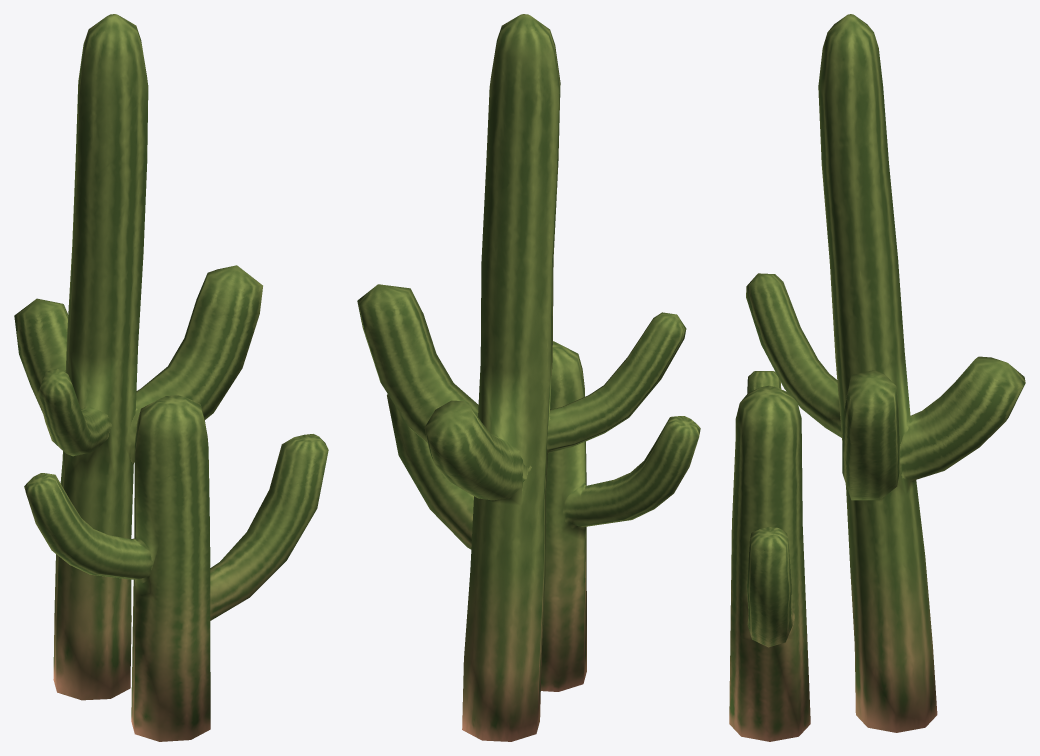
Rendered from obstacle1.glb.
3 renders of one model, left to right at view 1: azimuth 30°, elevation 25°; view 2: azimuth 150°, elevation 25°; view 3: azimuth 270°, elevation 25°, orthographic.
Visible parts, largest first — view 1: cactus_8_cacturs_8_0, cactus_1_cacturs_1_0; view 2: cactus_8_cacturs_8_0, cactus_1_cacturs_1_0; view 3: cactus_8_cacturs_8_0, cactus_1_cacturs_1_0.
Boxes of the visible parts, x1,y1,x2,y2 form: cactus_8_cacturs_8_0: (14, 14, 262, 700); cactus_1_cacturs_1_0: (24, 395, 328, 741); cactus_8_cacturs_8_0: (357, 14, 686, 741); cactus_1_cacturs_1_0: (387, 341, 700, 691); cactus_8_cacturs_8_0: (746, 14, 1025, 732); cactus_1_cacturs_1_0: (729, 371, 810, 741).
Bounding box in the file's own units: 1.9 × 4.12 × 1.58.
Materials: 2 (2 with a texture image).
